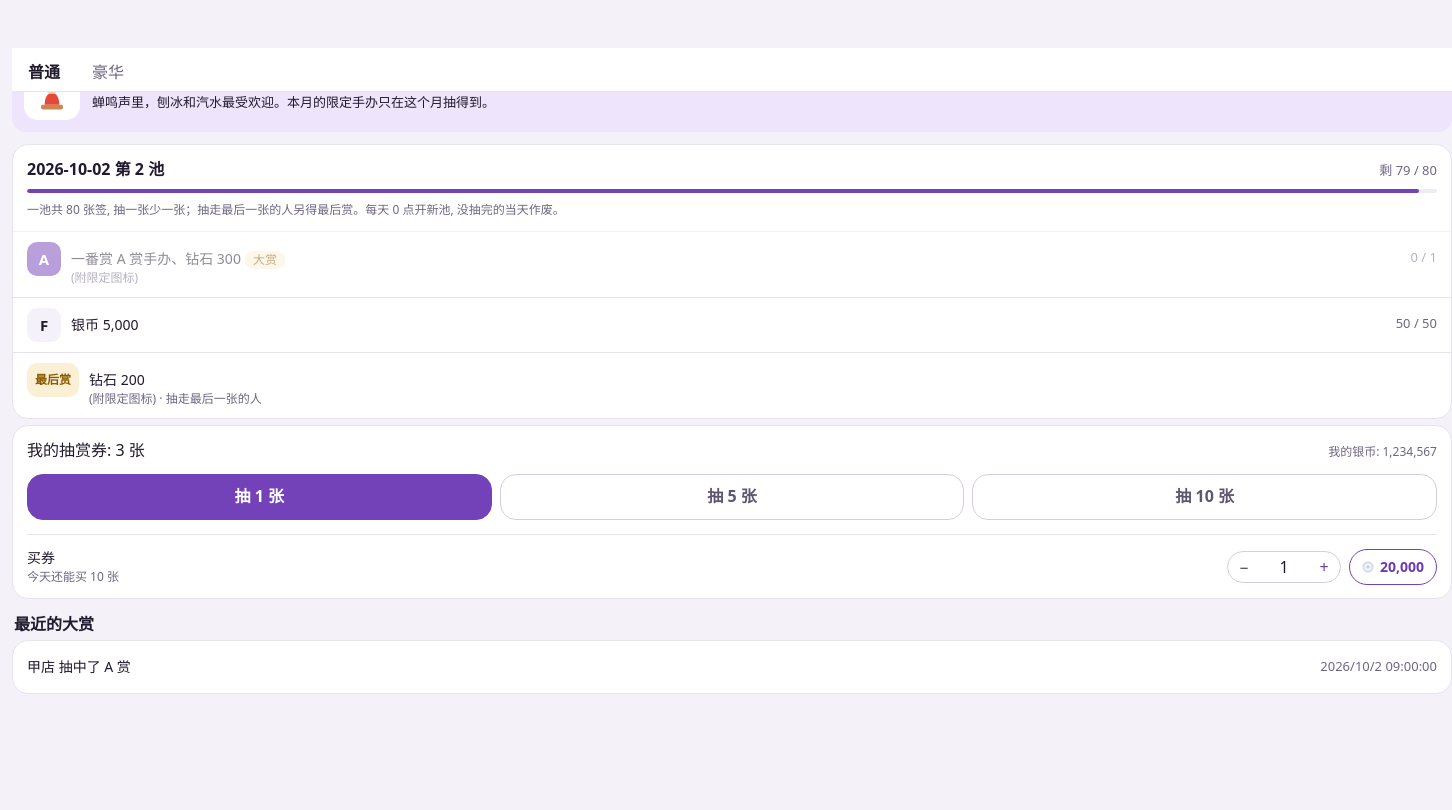
Scenario: KujiView（一番赏设计 §7.2） › 抽签按钮按券数和剩余禁用；买券显示总价
The image size is (1452, 810).
Expected: the button with test id "kj-draw-1" is enabled, [27,474,492,520]
Expected: the button with test id "kj-draw-5" is disabled, [500,474,964,520]
Replace the text in the number field with test id "kj-buy-num" with "3" at (1284, 566), box [1260,552,1308,582]
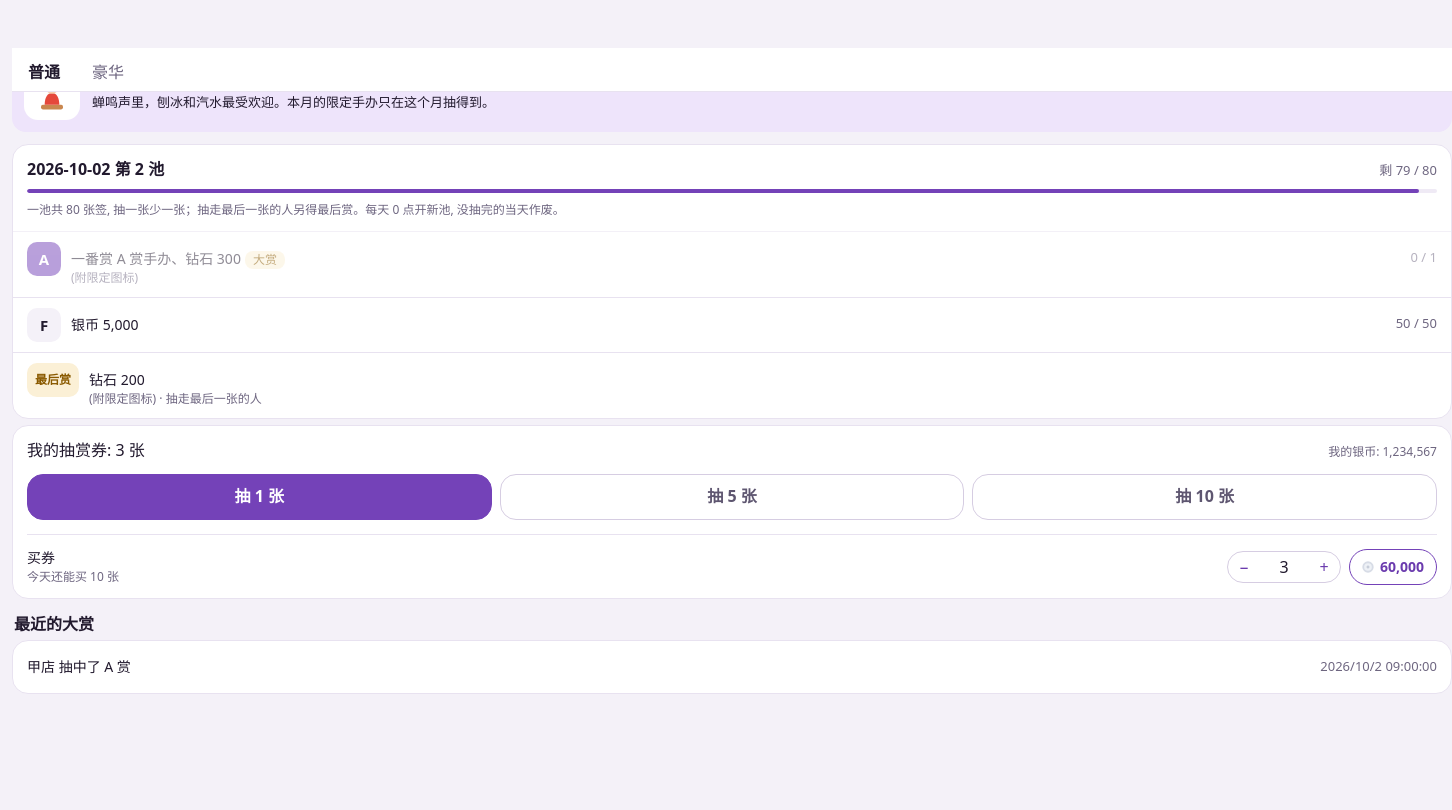
Expected: the button with test id "kj-buy" reads "60,000", [1349,548,1437,584]
